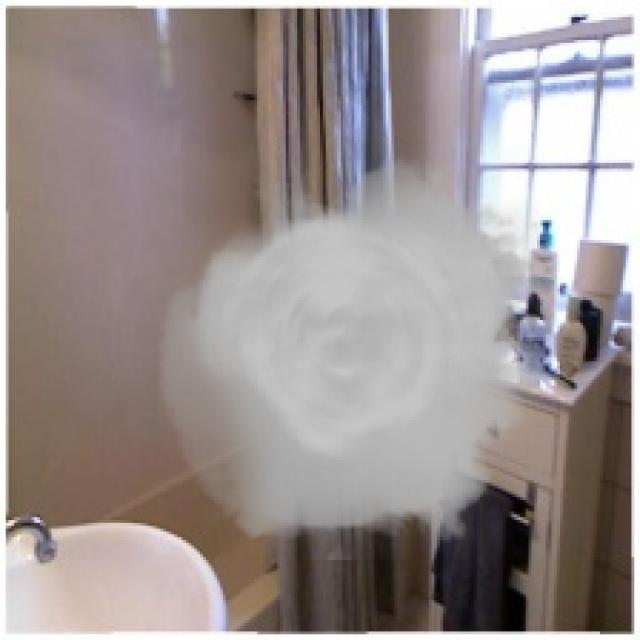Smoke: (157, 145, 540, 560)
